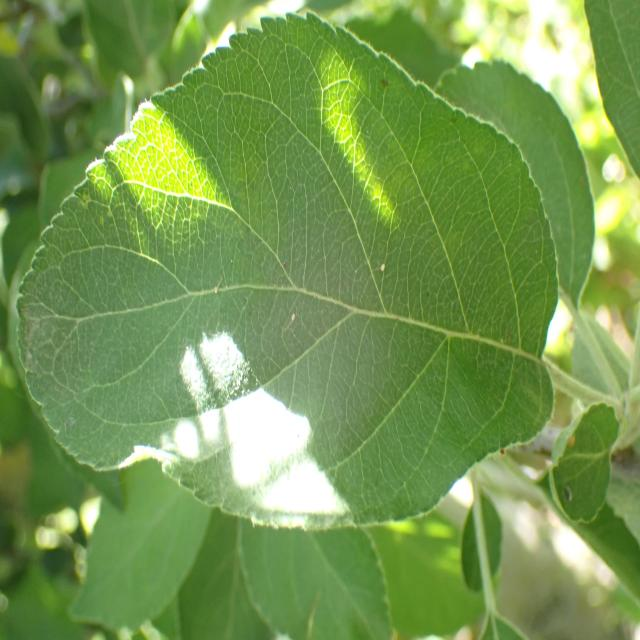healthy: (16, 8, 560, 531), (434, 60, 595, 316), (240, 518, 392, 640), (583, 0, 640, 179)
